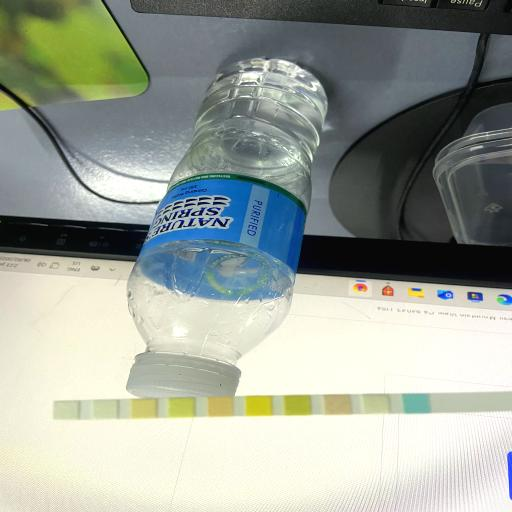Bilirubin: (362, 394, 388, 414)
Blood: (246, 396, 272, 416)
Glucose: (404, 394, 429, 412)
Ketone: (324, 394, 350, 414)
Leukocytes: (54, 402, 80, 420)
Nitrite: (92, 401, 119, 419)
Protein: (168, 398, 194, 417)
SpGravity: (284, 396, 310, 414)
Urobilinogen: (131, 399, 157, 419)
pH: (208, 397, 234, 416)
strip: (53, 391, 511, 420)
